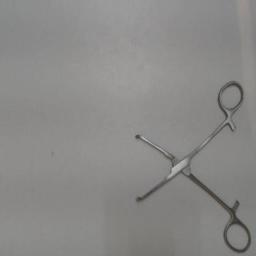Allis Tissue Forceps: (133, 78, 253, 256)
